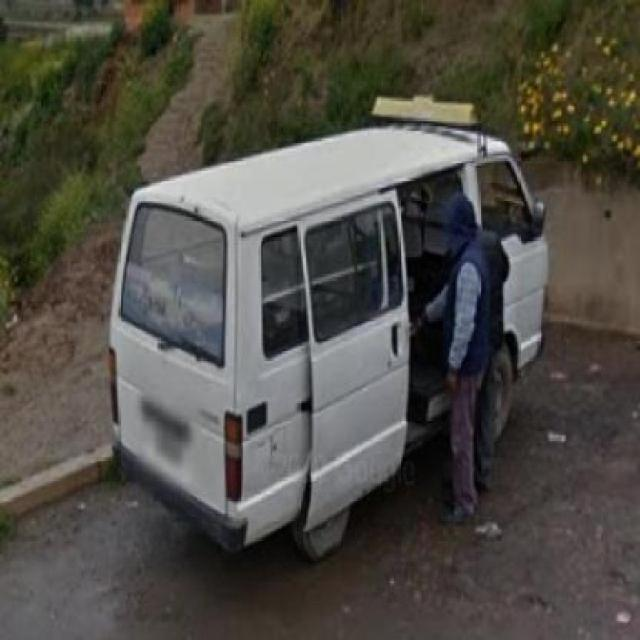car: (112, 105, 560, 553)
